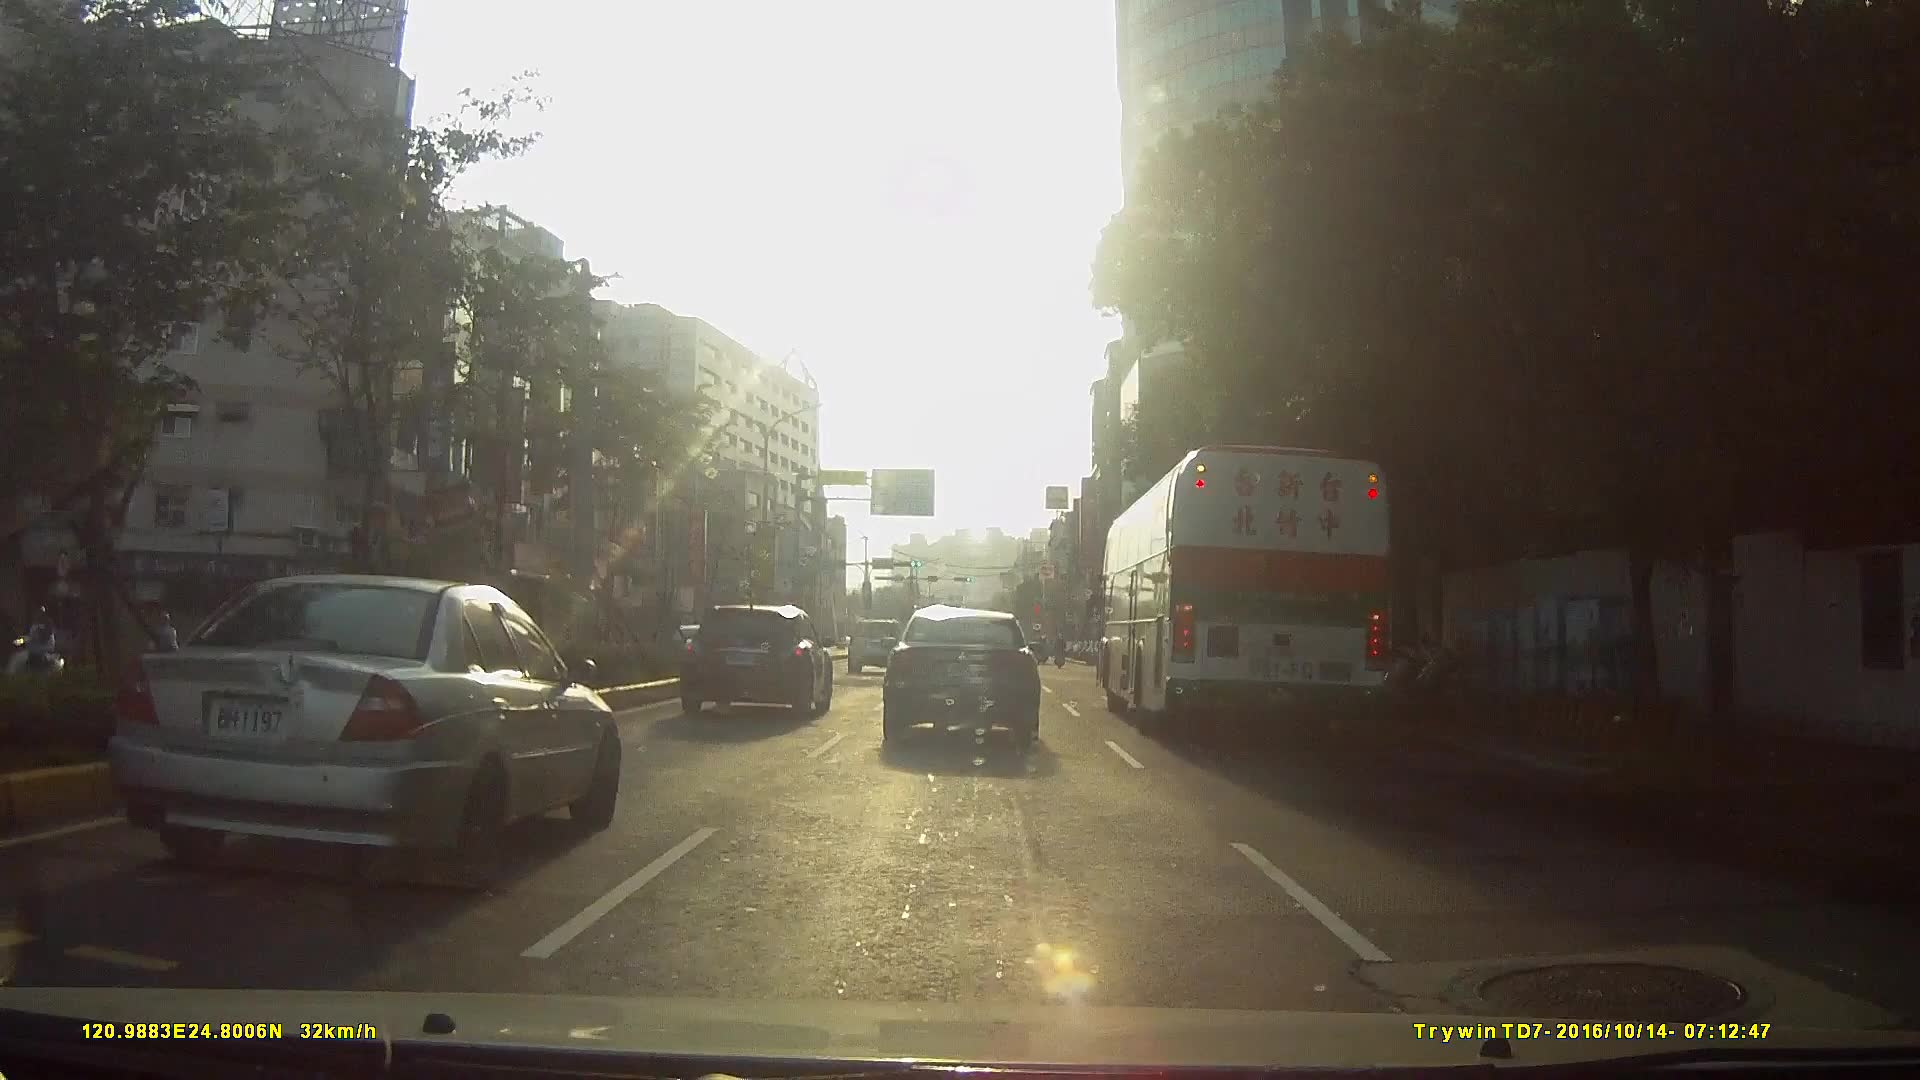rider: (17, 604, 78, 698)
vehicle: (100, 574, 622, 901), (1086, 436, 1407, 736), (880, 609, 1044, 754), (678, 603, 834, 721), (848, 619, 903, 677)
